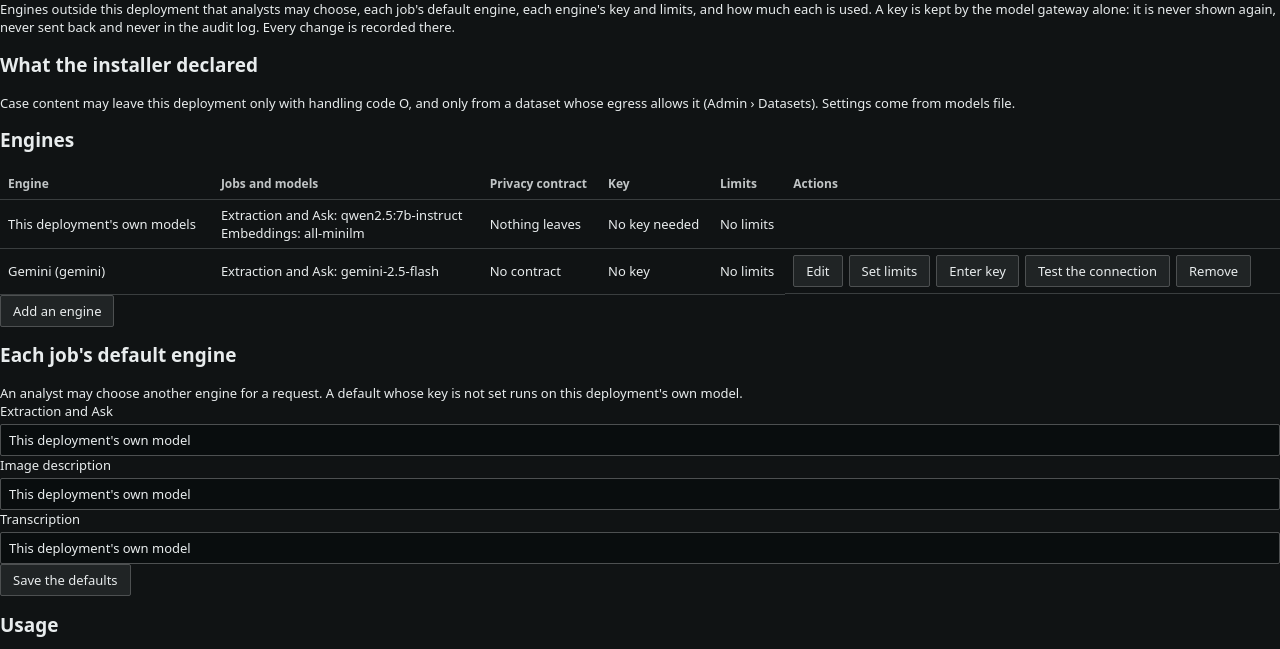
Scenario: Models › shows the Conduit's refusal in its words and still never the key
Click the button with aria-label "Enter key for Gemini" at (978, 271), box [936,255,1019,287]
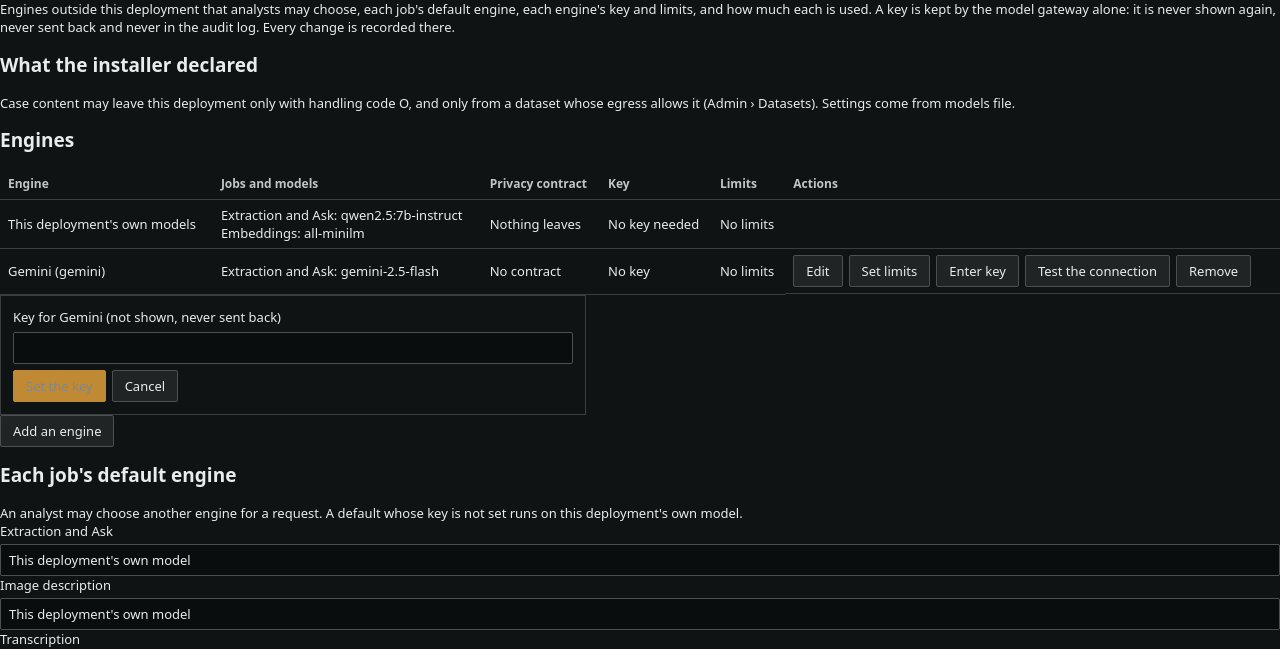
Type "sk-PLANTED-glass-key-Q7Z4" into the password field labelled "Key for Gemini (not shown, never sent back)" at (293, 348), box [13,332,573,364]
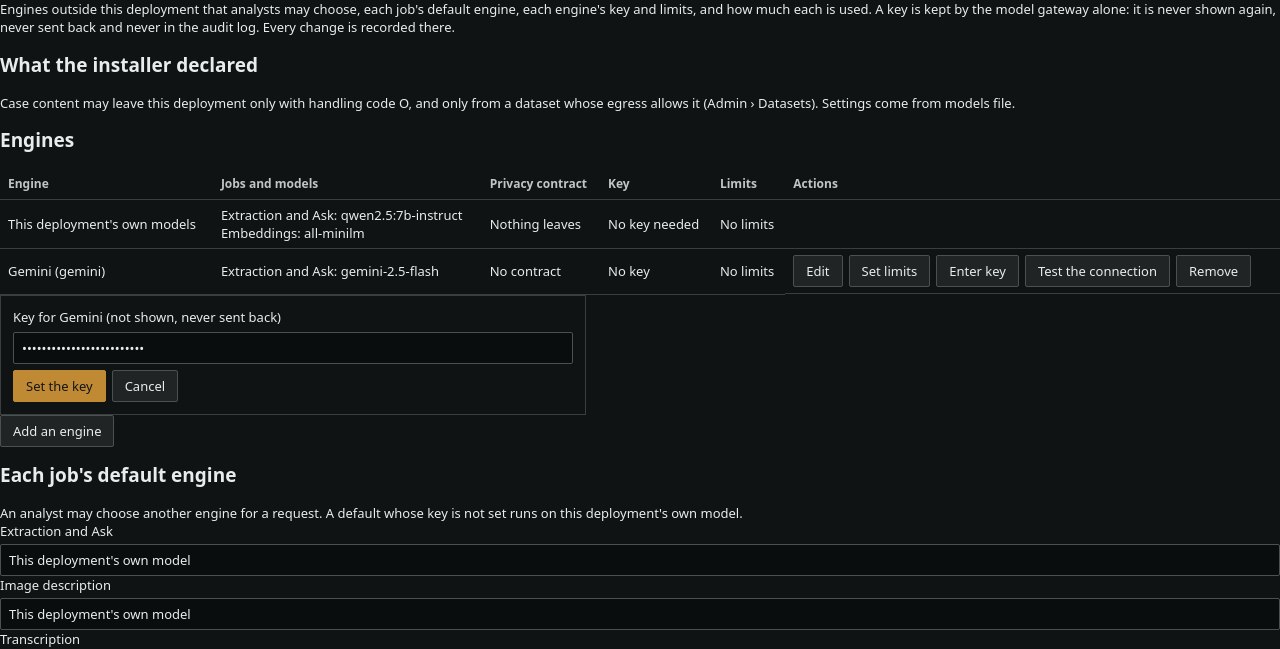
Click the button "Set the key" at (59, 386), box [13,370,106,402]
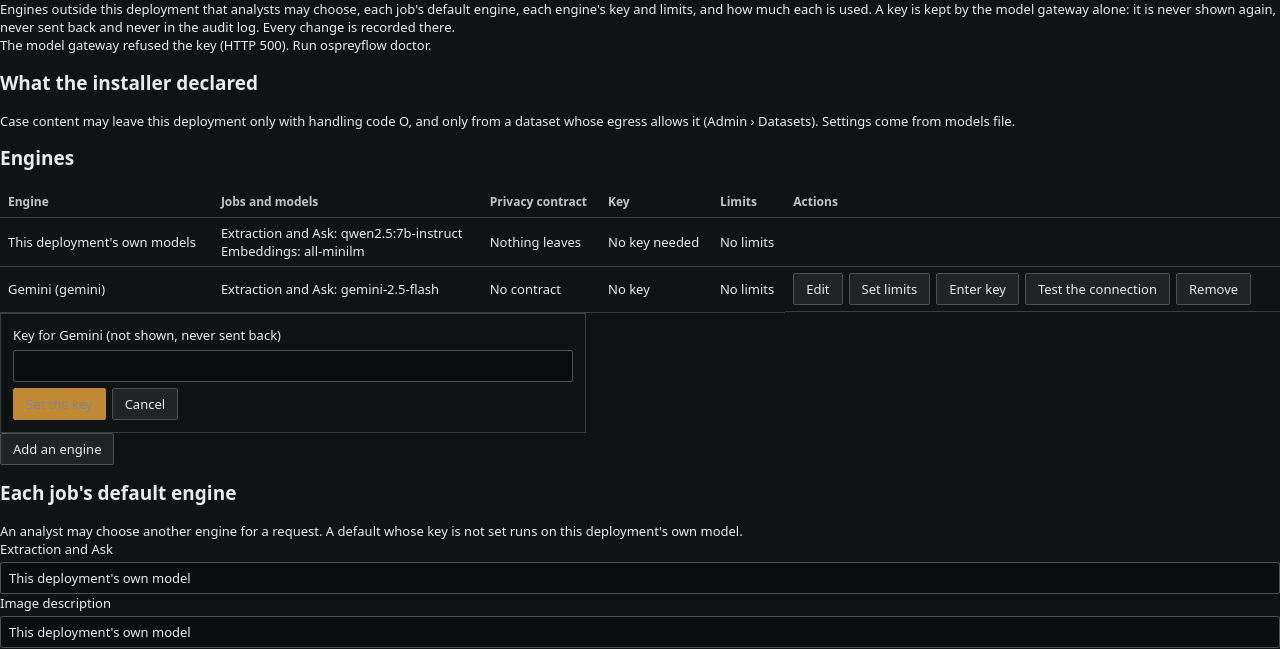
Expected: the message shows "The model gateway refused the key", [0,36,431,54]
